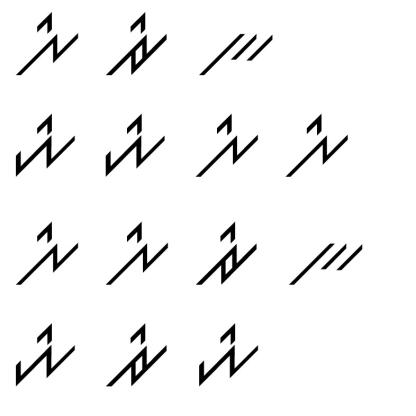li: (284, 108, 356, 186), (192, 111, 265, 184), (12, 218, 83, 290), (100, 221, 172, 292), (10, 6, 81, 76)
ri: (192, 216, 264, 290), (98, 320, 171, 392), (99, 8, 171, 80)
yi: (100, 105, 169, 180), (8, 321, 81, 390), (195, 323, 264, 393), (11, 114, 80, 178)
